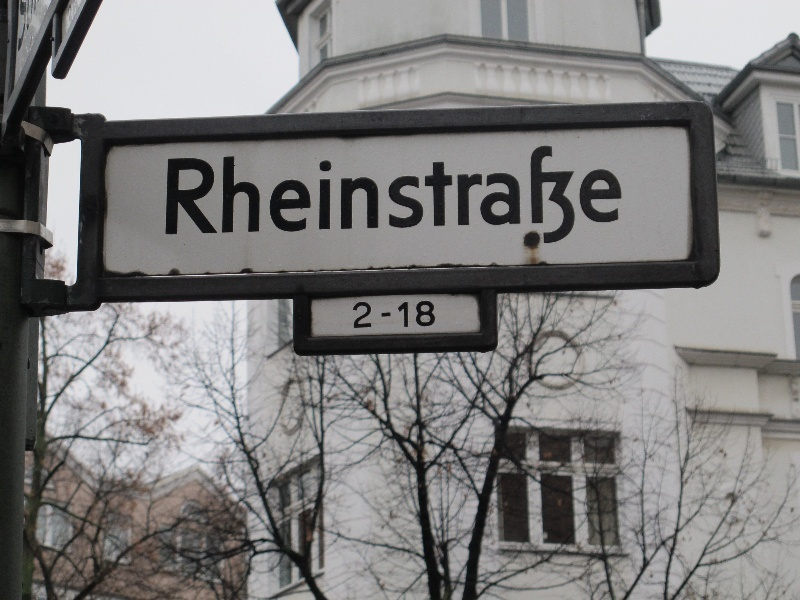text: (177, 143, 192, 249), (193, 143, 208, 249), (209, 143, 224, 249), (225, 143, 240, 249), (241, 143, 256, 249), (257, 143, 272, 249), (273, 143, 288, 249), (289, 143, 304, 249), (305, 143, 320, 249), (321, 143, 336, 249), (337, 143, 352, 249), (353, 143, 368, 249), (369, 143, 384, 249), (385, 143, 400, 249), (401, 143, 416, 249), (417, 143, 432, 249), (433, 143, 448, 249), (449, 143, 464, 249), (465, 143, 480, 249), (481, 143, 496, 249), (497, 143, 512, 249), (513, 143, 528, 249), (529, 143, 544, 249), (545, 143, 560, 249), (561, 143, 576, 249), (577, 143, 592, 249), (593, 143, 608, 249), (609, 143, 623, 249), (167, 143, 176, 249), (353, 300, 368, 329), (369, 300, 384, 329), (385, 300, 400, 329), (401, 300, 416, 329), (417, 300, 432, 329), (433, 300, 436, 329), (351, 300, 352, 329)
